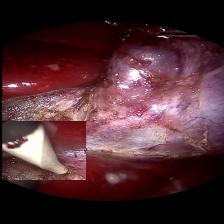Hook: (0, 121, 85, 180)
